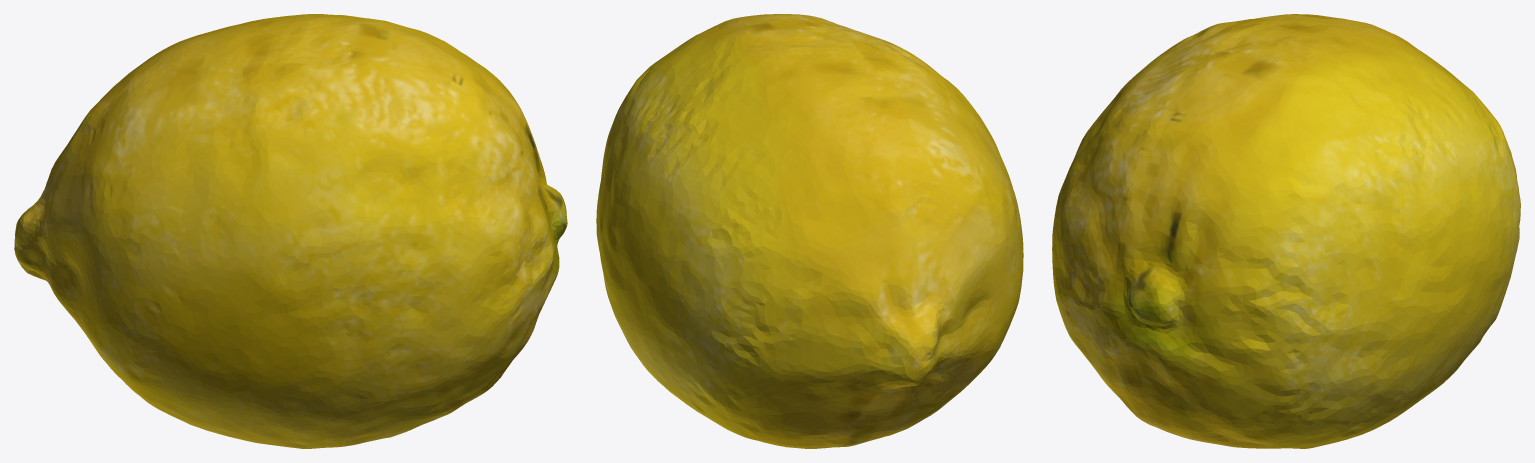
The model's file is lemon.glb.
The picture shows the model from 3 angles, left to right: view 1: azimuth 30°, elevation 25°; view 2: azimuth 150°, elevation 25°; view 3: azimuth 270°, elevation 25°; orthographic projection. The views are drawn at different scales.
Parts seen in each view (by area): view 1: textured.obj; view 2: textured.obj; view 3: textured.obj.
Boxes of the visible parts, x1,y1,x2,y2 form: textured.obj: (14, 14, 567, 448); textured.obj: (596, 14, 1023, 448); textured.obj: (1052, 14, 1520, 448).
Size of the model in its own units: 0.0598 by 0.0529 by 0.0585.
Materials: 1 (1 with a texture image).
